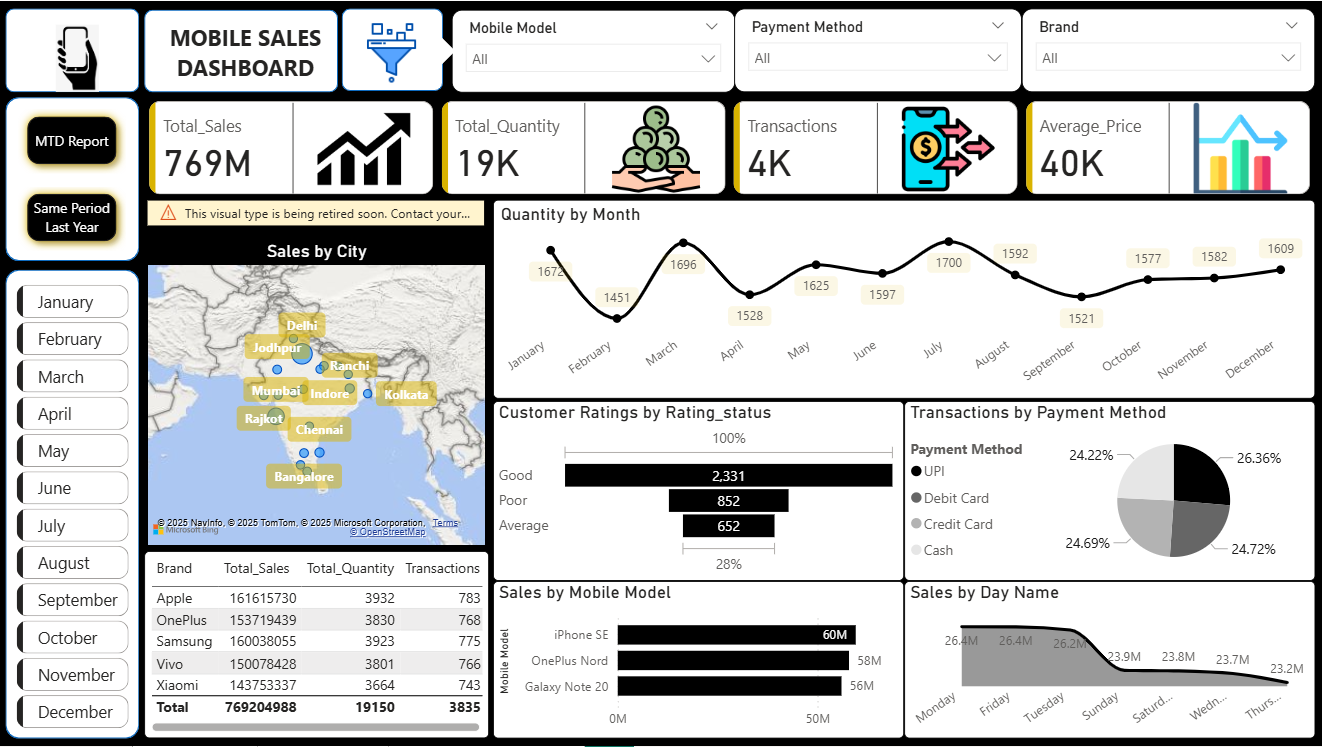

Layout of this report page (visuals, bound fields, positions):
{"tool":"powerbi","page":{"name":"Dashboard","canvas":[1280,720],"ordinal":0},"visuals":[{"type":"shape","box":[7.2,7.2,129.1,80.8],"z":0},{"type":"image","box":[35,18.1,83.2,74.8],"z":1000},{"type":"shape","box":[7.2,92.9,129.1,158],"z":2000},{"type":"shape","box":[7.2,259.4,129.1,452.4],"z":3000},{"type":"advancedSlicerVisual","fields":{"Values":["custom_calander.Date.Variation.Date Hierarchy.Month"]},"box":[13.3,269,118.2,442.8],"z":4000},{"type":"slicer","fields":{"Values":["mobile_sales_data.Mobile Model"]},"box":[437.9,8.4,273.9,79.6],"z":5000},{"type":"slicer","fields":{"Values":["mobile_sales_data.Payment Method"]},"box":[710.6,7.2,277.5,80.8],"z":6000},{"type":"slicer","fields":{"Values":["mobile_sales_data.Brand"]},"box":[988.1,7.2,283.5,80.8],"z":7000},{"type":"shape","box":[331.8,7.2,97.7,79.6],"z":8000},{"type":"image","box":[342.6,15.7,74.8,68.8],"z":9000},{"type":"shape","box":[405.4,30.2,36.2,36.2],"z":10000},{"type":"shape","box":[141.2,8.4,187,79.6],"z":11000},{"type":"textbox","box":[158,15.7,161.7,68.8],"z":12000},{"type":"map","title":"Sales by City","fields":{"Category":["mobile_sales_data.City"],"Size":["mobile_sales_data.Total_Sales"]},"box":[138.7,191.8,336.6,339],"z":13000},{"type":"lineChart","title":"Quantity by Month","fields":{"Category":["custom_calander.Date.Variation.Date Hierarchy.Month"],"Y":["mobile_sales_data.Total_Quantity"]},"box":[477.8,191.8,793.8,191.8],"z":14000},{"type":"funnel","title":"Customer Ratings by Rating_status","fields":{"Y":["CountNonNull(mobile_sales_data.Customer Ratings)"],"Category":["mobile_sales_data.Rating_status"]},"box":[477.8,386.1,396.9,173.7],"z":15000},{"type":"pieChart","fields":{"Category":["mobile_sales_data.Payment Method"],"Y":["mobile_sales_data.Transactions"]},"box":[874.7,386.1,396.9,173.7],"z":16000},{"type":"clusteredBarChart","title":"Sales by Mobile Model","fields":{"Y":["mobile_sales_data.Total_Sales"],"Category":["mobile_sales_data.Mobile Model"]},"box":[477.8,559.8,396.9,152],"z":17000},{"type":"areaChart","title":"Sales by Day Name","fields":{"Y":["mobile_sales_data.Total_Sales"],"Category":["custom_calander.Day Name"]},"box":[874.7,559.8,396.9,152],"z":18000},{"type":"tableEx","fields":{"Values":["mobile_sales_data.Brand","mobile_sales_data.Total_Sales","mobile_sales_data.Total_Quantity","mobile_sales_data.Transactions"]},"box":[141.2,530.8,333,181],"z":19000},{"type":"pageNavigator","box":[19.3,102.5,105,139.9],"z":20000},{"type":"cardVisual","fields":{"Data":["mobile_sales_data.Total_Sales","mobile_sales_data.Total_Quantity","mobile_sales_data.Transactions","mobile_sales_data.Average_Price"]},"box":[141.2,91.7,1130.4,100.1],"z":21000}]}

Visuals, with their boxes in screenshot pixels (x1, y1, x2, y2), scaled from the page's 1280x720 canvas onto the 1322x747 screenshot:
shape: 7:7:141:91
image: 36:19:122:96
shape: 7:96:141:260
shape: 7:269:141:738
advancedSlicerVisual - custom_calander.Date.Variation.Date Hierarchy.Month: 14:279:136:738
slicer - mobile_sales_data.Mobile Model: 452:9:735:91
slicer - mobile_sales_data.Payment Method: 734:7:1021:91
slicer - mobile_sales_data.Brand: 1021:7:1313:91
shape: 343:7:444:90
image: 354:16:431:88
shape: 419:31:456:69
shape: 146:9:339:91
textbox: 163:16:330:88
"Sales by City" map: 143:199:491:551
"Quantity by Month" lineChart: 493:199:1313:398
"Customer Ratings by Rating_status" funnel: 493:401:903:581
pieChart - mobile_sales_data.Payment Method x mobile_sales_data.Transactions: 903:401:1313:581
"Sales by Mobile Model" clusteredBarChart: 493:581:903:738
"Sales by Day Name" areaChart: 903:581:1313:738
tableEx - mobile_sales_data.Brand x mobile_sales_data.Total_Sales: 146:551:490:738
pageNavigator: 20:106:128:251
cardVisual - mobile_sales_data.Total_Sales x mobile_sales_data.Total_Quantity: 146:95:1313:199
